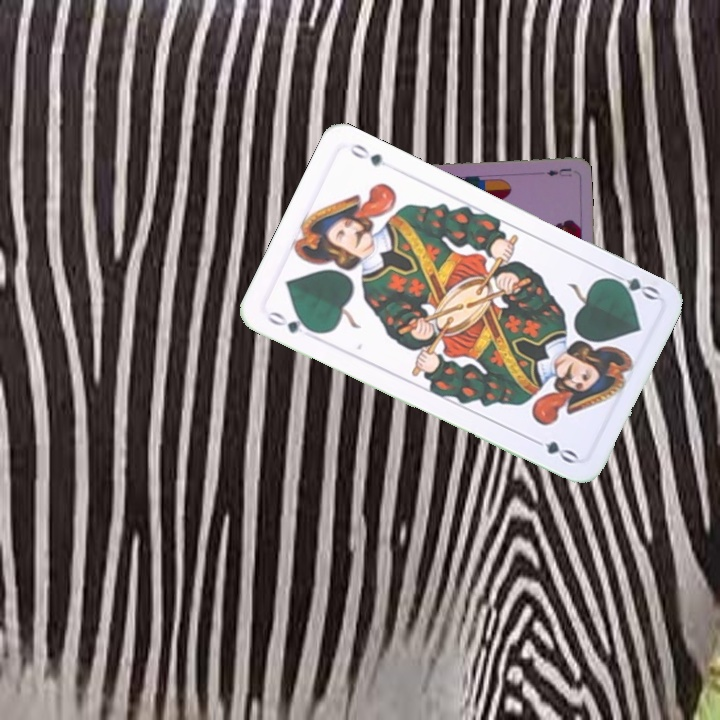EU: (543, 164, 574, 179)
GO: (603, 267, 662, 303), (262, 307, 320, 336)
